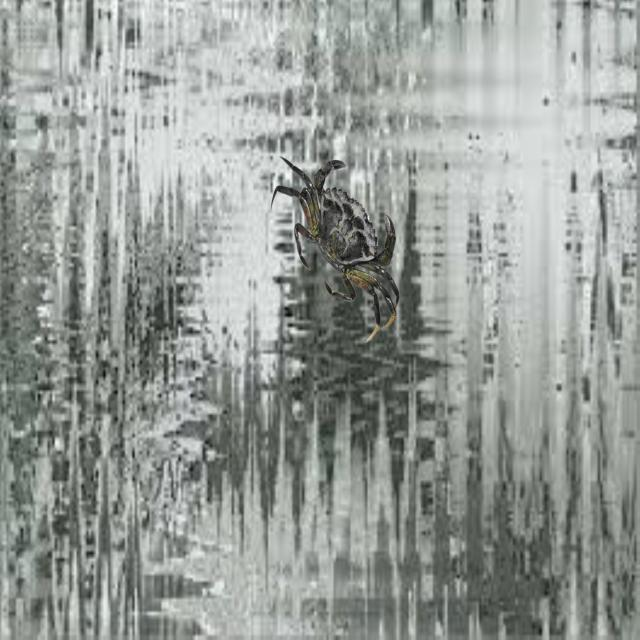European_Green_Crab: (251, 115, 430, 351)
